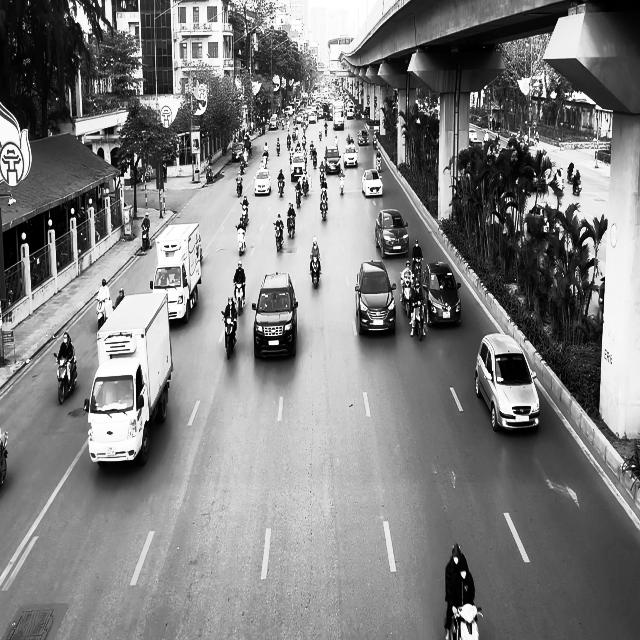car: (474, 332, 540, 432), (251, 271, 298, 359), (355, 259, 396, 335), (421, 262, 462, 326), (375, 208, 409, 258), (361, 168, 383, 197), (324, 145, 341, 174), (254, 168, 271, 196), (343, 144, 358, 167), (358, 129, 368, 145)
motorbike: (54, 351, 78, 405), (449, 604, 482, 639), (221, 310, 237, 360), (410, 298, 426, 340), (0, 430, 8, 484), (233, 281, 245, 315), (309, 256, 321, 288), (235, 223, 246, 255), (273, 222, 284, 251), (141, 224, 151, 252), (286, 214, 296, 238), (320, 193, 328, 221), (240, 204, 249, 228), (572, 173, 581, 196), (338, 171, 345, 194), (235, 176, 243, 196), (206, 164, 213, 183)
truck: (84, 290, 174, 467), (150, 222, 202, 324)
